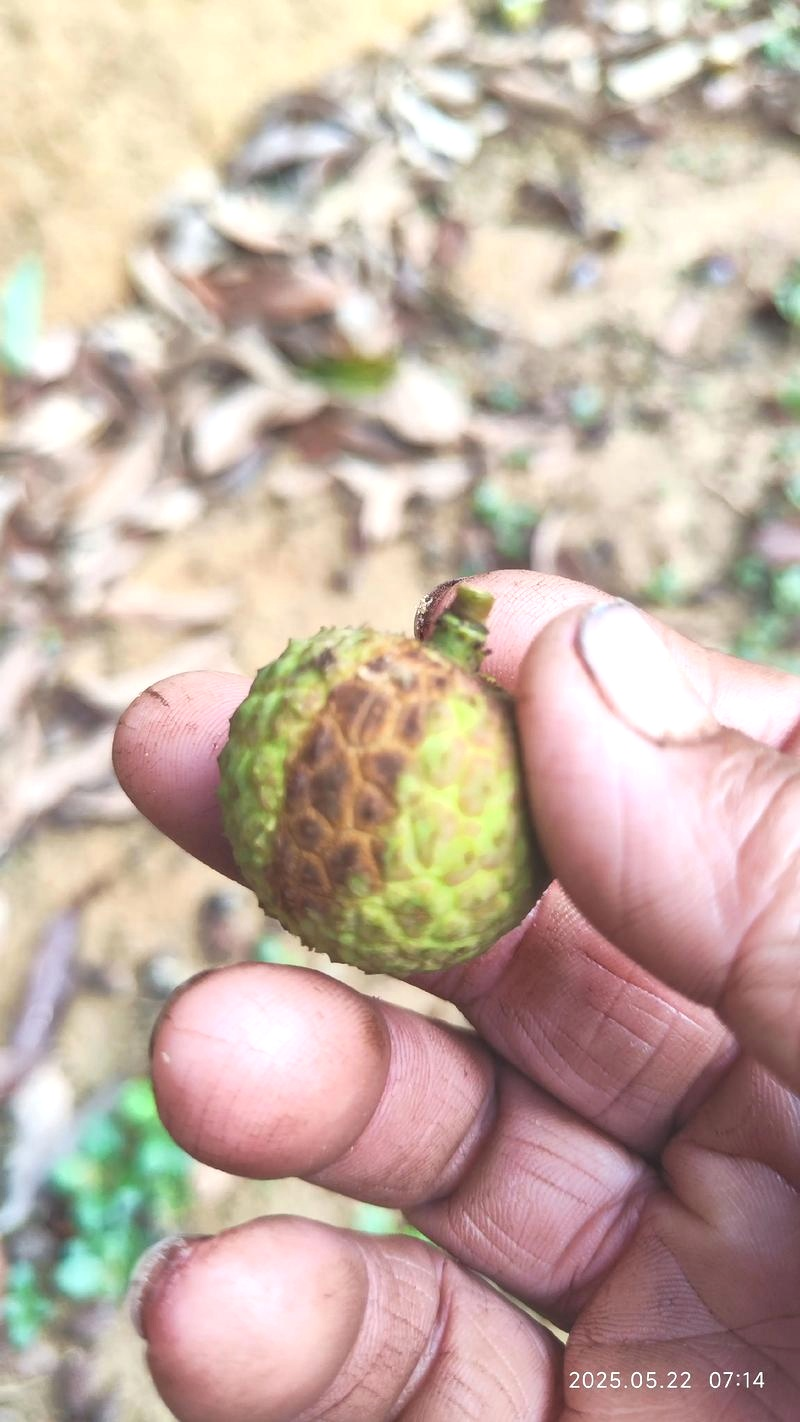Anthracnose: (280, 654, 448, 935)
